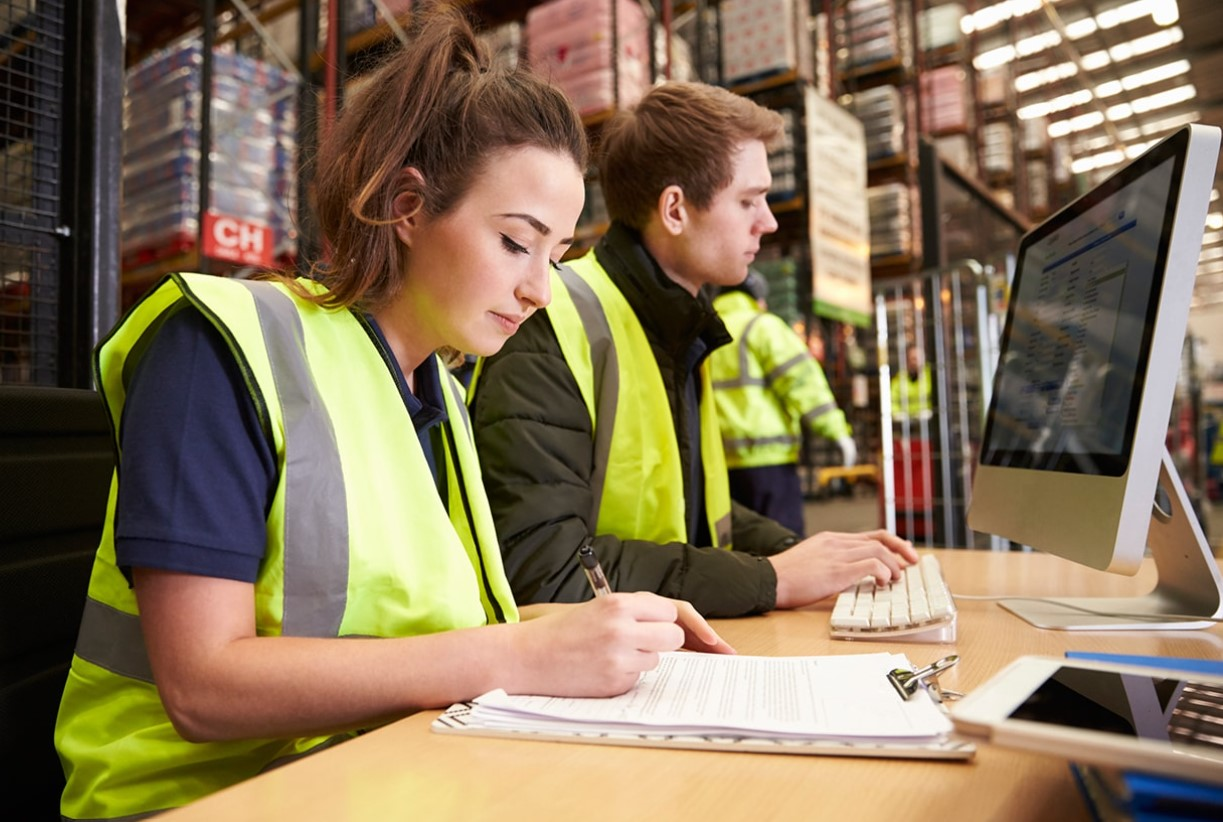worker: (58, 85, 568, 822), (552, 82, 769, 575)
